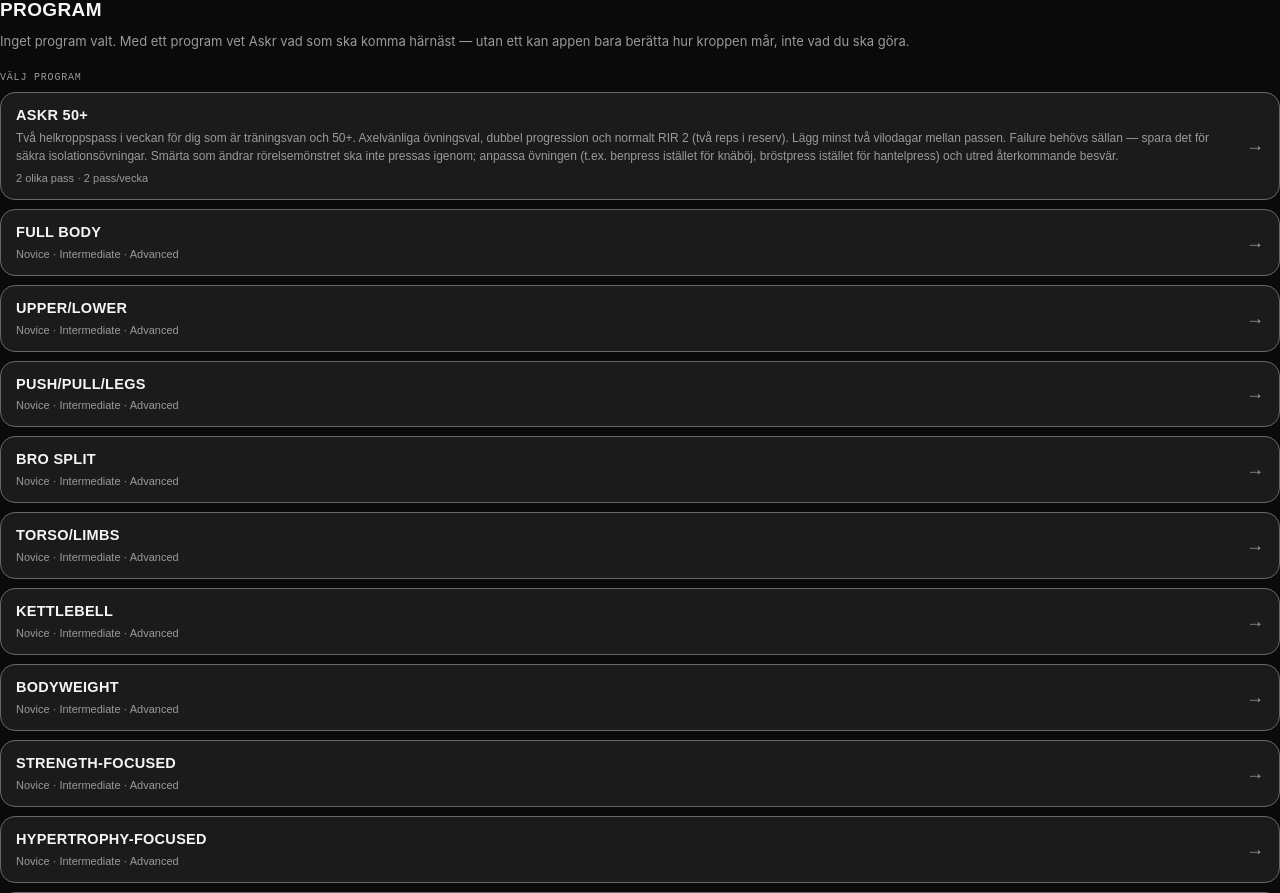
Test: valet är familj först › en familj öppnar sina nivåer, med väg tillbaka
The width and height of the screenshot is (1280, 893).
Click the button "Upper/Lower Novice · Intermediate · Advanced →" at [72, 308], box [0,285,1279,352]
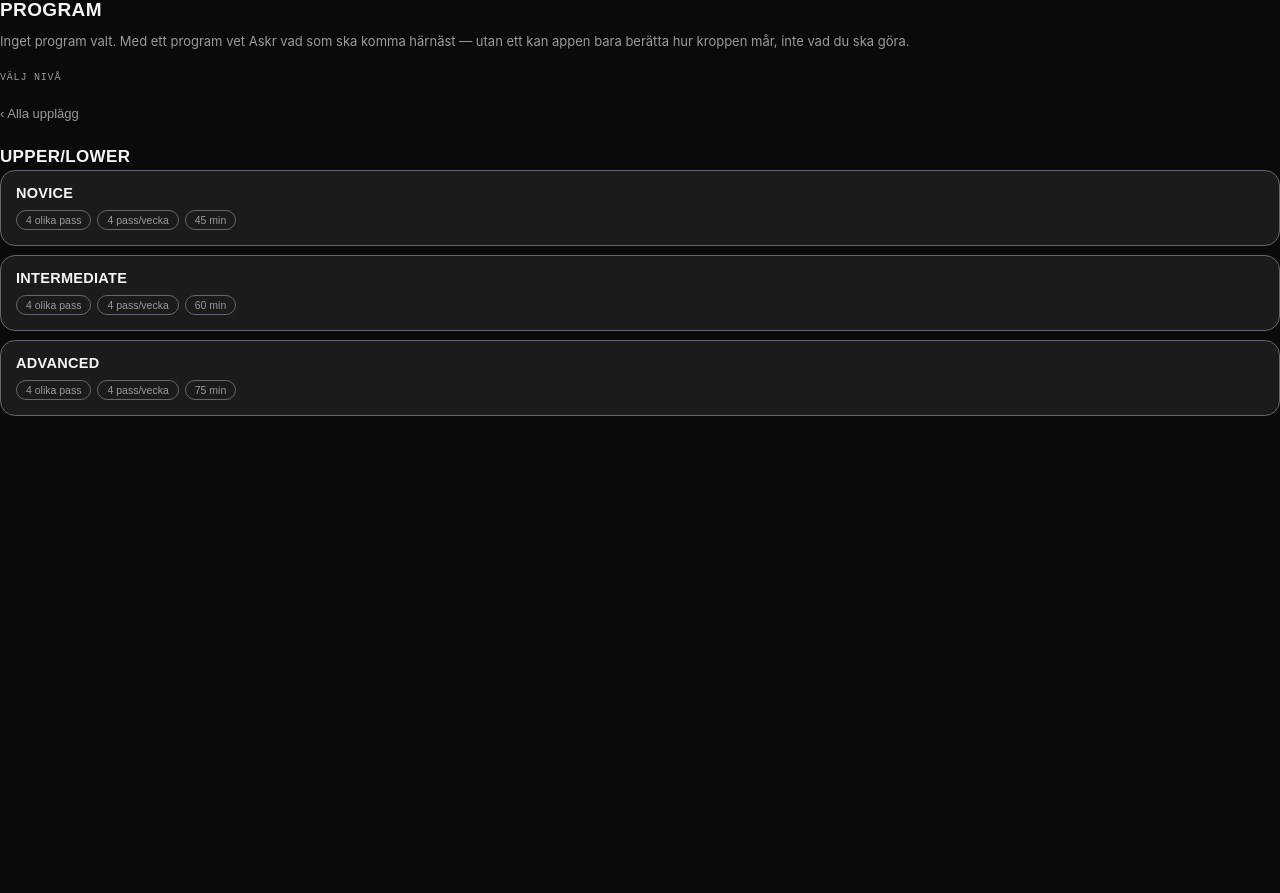
Check: the text "Alla upplägg" is shown, box [0,92,79,136]
